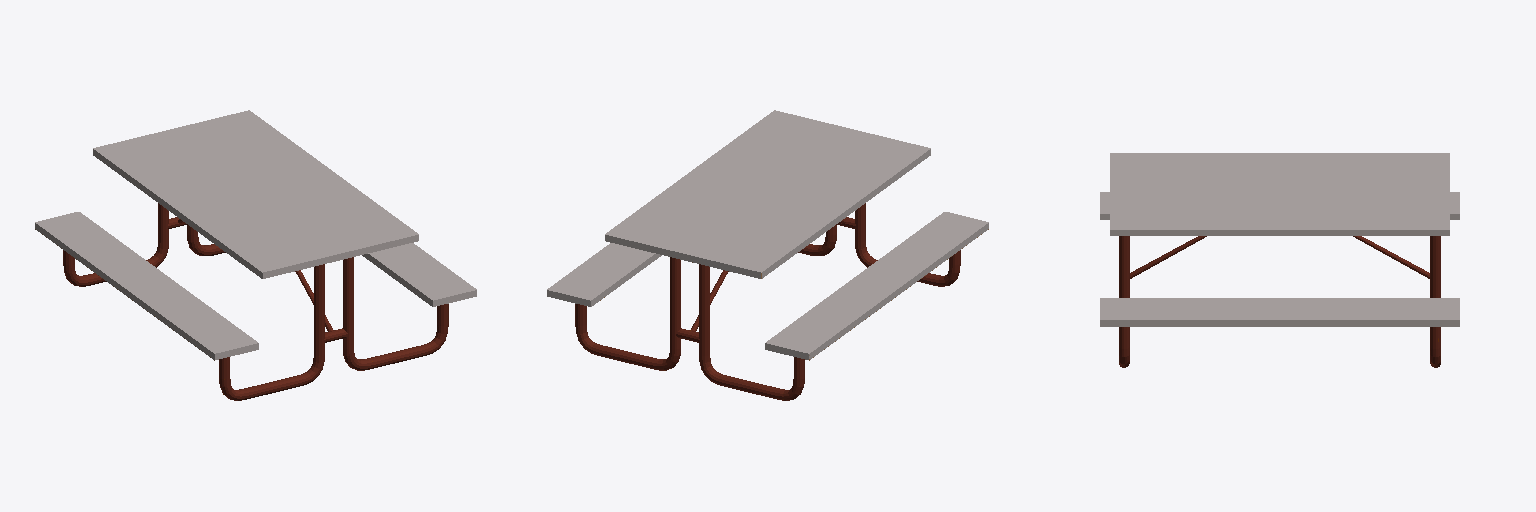
The picture shows the model from 3 angles: view 1: azimuth 30°, elevation 25°; view 2: azimuth 150°, elevation 25°; view 3: azimuth 270°, elevation 25°; orthographic projection.
Parts seen in each view (by area): view 1: MesaPicnic; view 2: MesaPicnic; view 3: MesaPicnic.
Boxes of the visible parts, <box> form: MesaPicnic: <box>35,110,476,400</box>; MesaPicnic: <box>547,110,988,400</box>; MesaPicnic: <box>1100,153,1459,367</box>.
Bounding box in the file's own units: 167 × 78.45 × 198.
Materials: 1 (1 with a texture image).